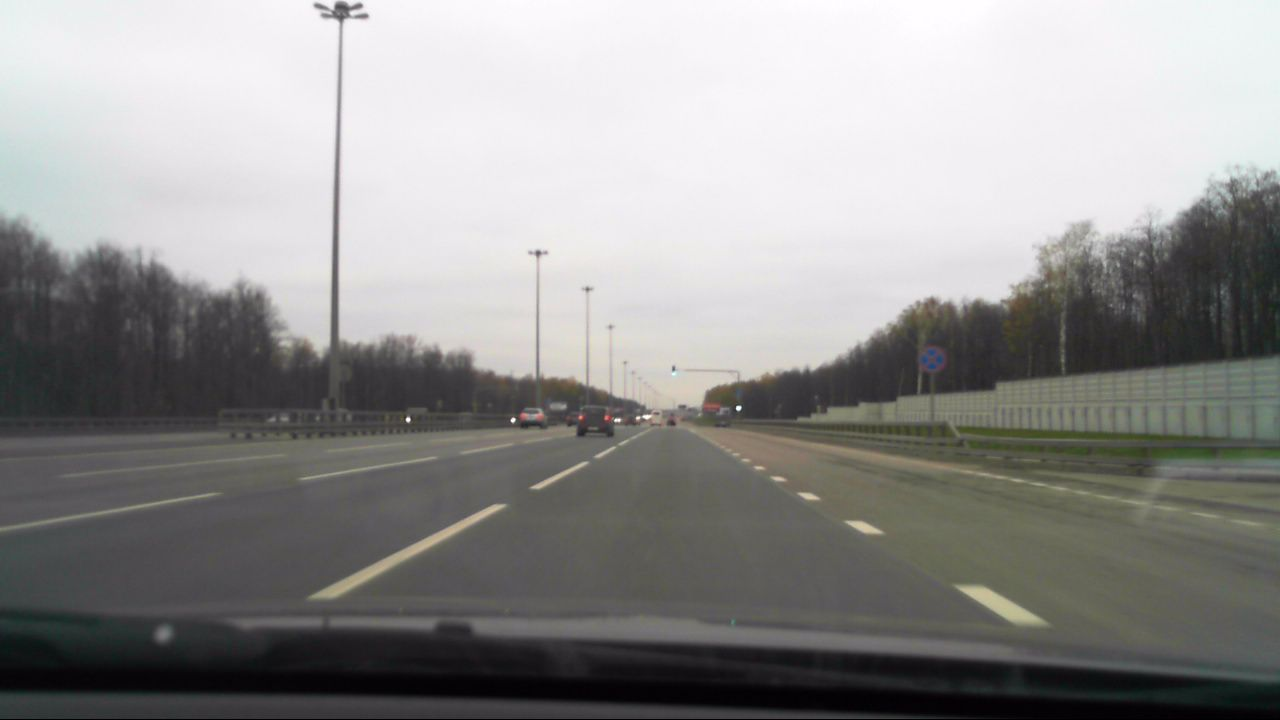No Parking: (918, 347, 945, 375)
